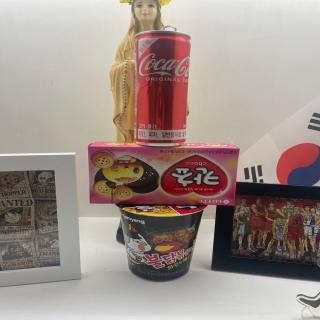cocacola: (137, 30, 192, 147)
